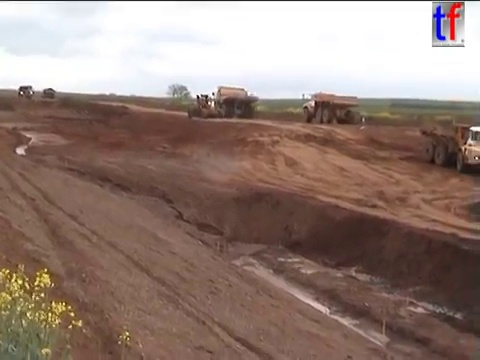motor grader: (185, 91, 227, 121)
truck: (419, 122, 480, 174), (299, 90, 362, 125), (211, 84, 261, 120), (16, 84, 37, 101), (40, 86, 58, 101)
